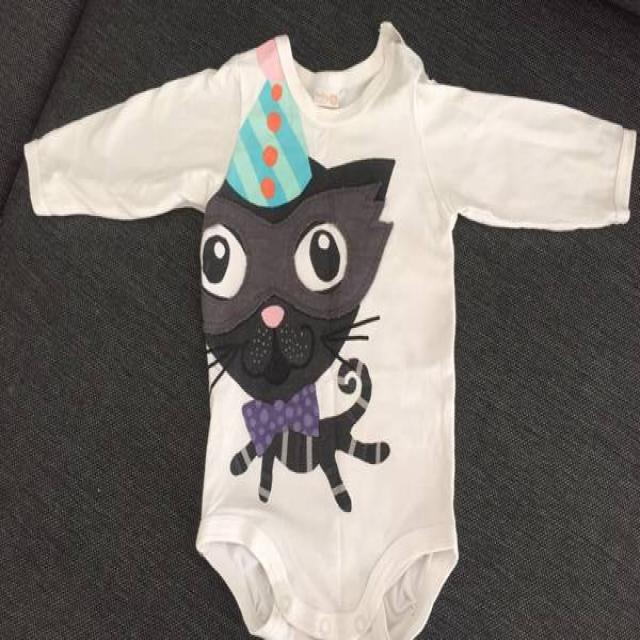Clothes -Biodegradable-: (24, 26, 640, 640)
